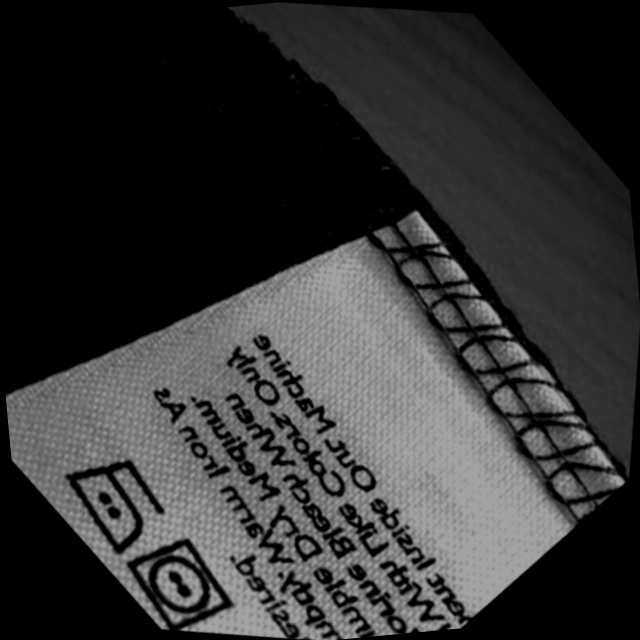iron_medium: (46, 444, 175, 564)
tumble_dry_medium: (111, 526, 244, 640)
